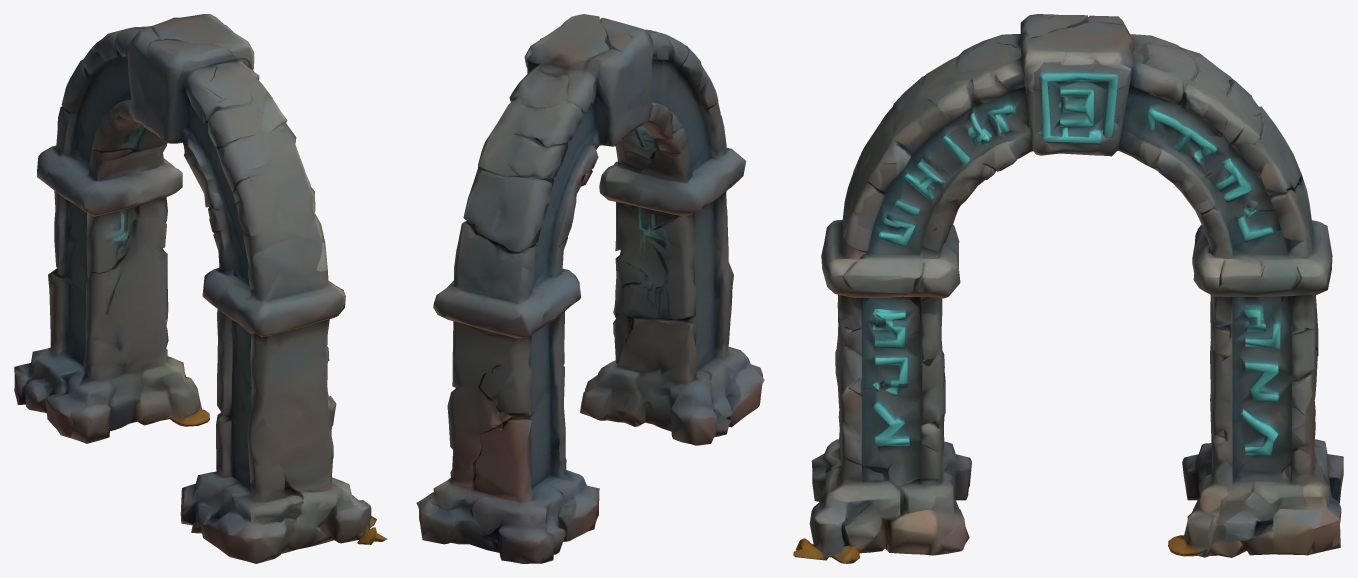
File: portal.glb
The picture shows the model from 3 angles, left to right: view 1: azimuth 30°, elevation 25°; view 2: azimuth 150°, elevation 25°; view 3: azimuth 270°, elevation 25°; orthographic projection. The views are drawn at different scales.
Parts seen in each view (by area): view 1: portal-0; view 2: portal-0; view 3: portal-0.
Part boxes in pixels (left/top/right/bottom): portal-0: left=14, top=14, right=387, bottom=563; portal-0: left=416, top=14, right=764, bottom=563; portal-0: left=793, top=14, right=1343, bottom=563.
Size of the model in its own units: 0.3599 by 0.9819 by 1.
1 material, 1 textured.
